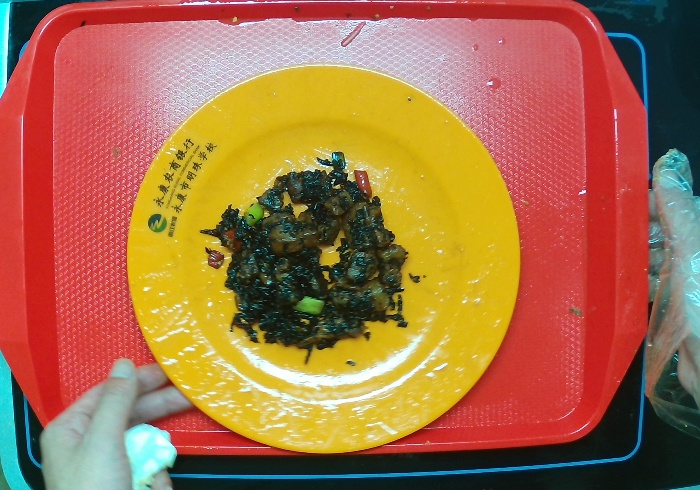YKMZ-Ju_Se_Mian_Pan: (125, 62, 522, 454)
